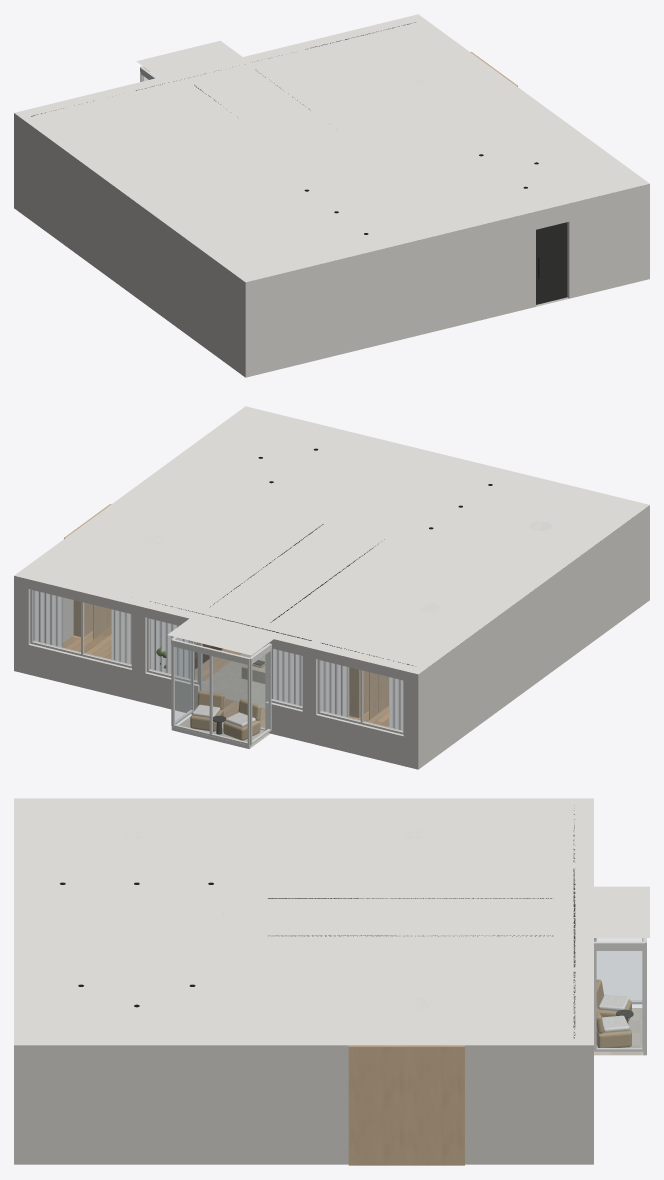
3 renders of one model, top to bottom at view 1: azimuth 30°, elevation 25°; view 2: azimuth 150°, elevation 25°; view 3: azimuth 270°, elevation 25°, orthographic. The views are drawn at different scales.
Visible parts, largest first — view 1: Ceiling, Interior; view 2: Ceiling, Interior, Glass, Curtains; view 3: Ceiling, Interior, Glass.
Part boxes in pixels (left/top/right/bottom): Ceiling: left=14, top=14, right=649, bottom=282; Interior: left=14, top=52, right=649, bottom=377; Ceiling: left=14, top=406, right=649, bottom=674; Interior: left=14, top=504, right=649, bottom=769; Glass: left=33, top=590, right=402, bottom=741; Curtains: left=33, top=590, right=403, bottom=730; Ceiling: left=14, top=798, right=649, bottom=1045; Interior: left=14, top=938, right=646, bottom=1165; Glass: left=597, top=938, right=641, bottom=1048.
Size of the model in its own units: 12.13 by 2.73 by 13.14.
Materials: 49 (17 with a texture image).
